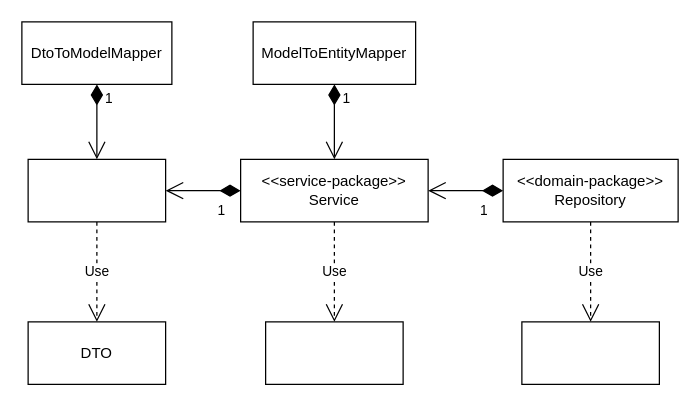
The diagram is 700 pixels wide and 406 high, and some of its shapes have lost their labels. The shapes that lost their labels are listed below. From the top down, each one's centre as x and y in pixels, then its label:
At (96,190): "<<rest-package>> Controller".
At (333,352): "Model".
At (590,352): "Entity".
